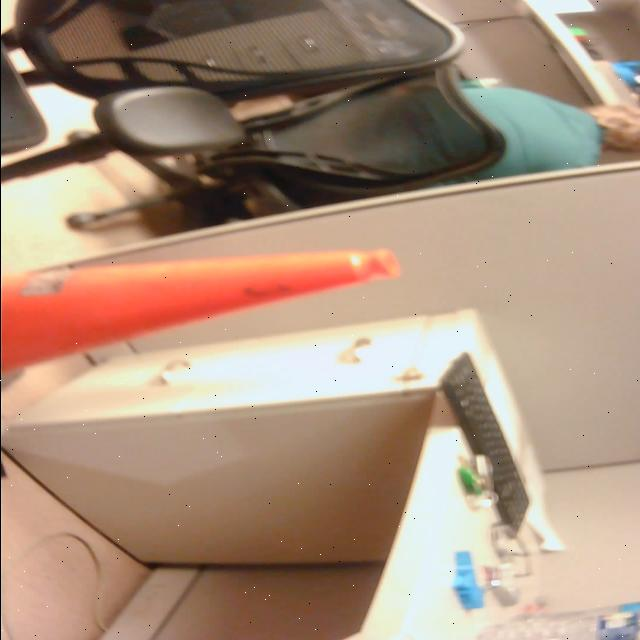traffic cone: (1, 239, 413, 399)
